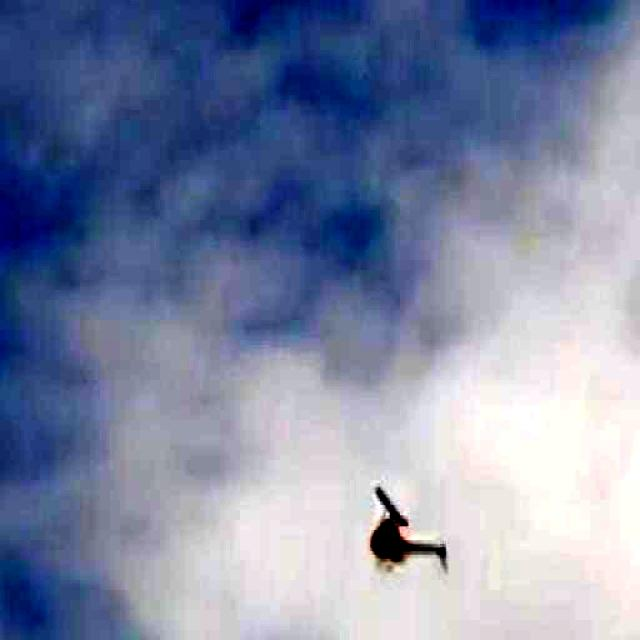drone: (352, 472, 472, 598)
